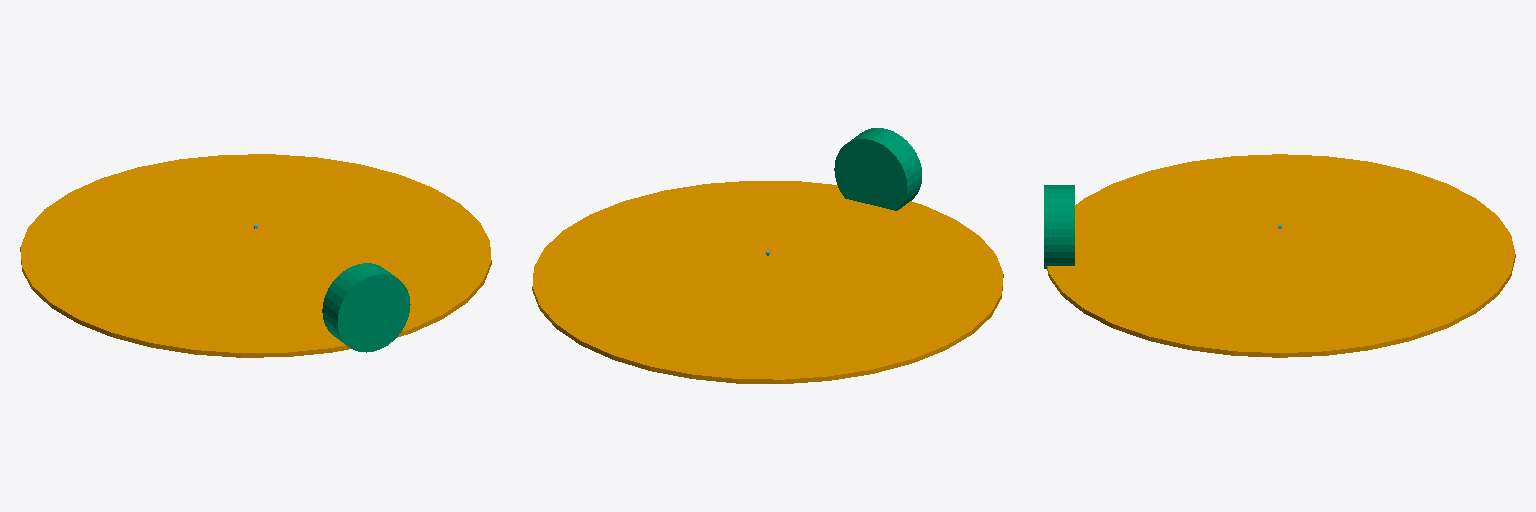
The robot description file, URDF, robot "pibot":
<?xml version="1.0" encoding="utf-8"?>
<!-- =================================================================================== -->
<!-- |    This document was autogenerated by xacro from [local-path]/catkin_ws/src/simulation/pibot_description/models/iti0201_robot/urdf/generate_pibot.urdf.xacro | -->
<!-- |    EDITING THIS FILE BY HAND IS NOT RECOMMENDED                                 | -->
<!-- =================================================================================== -->
<robot name="pibot" xmlns:xacro="http://www.ros.org/wiki/xacro">
  <link name="base_with_casters">
    <inertial>
      <mass value="0.48"/>
      <inertia ixx="0.00058809" ixy="0.0" ixz="0.0" iyy="0.00058809" iyz="0.0" izz="0.001176"/>
    </inertial>
    <visual name="base_visual">
      <origin rpy="0 0 0" xyz="0 0 0.003"/>
      <geometry>
        <cylinder length="0.0015" radius="0.07"/>
      </geometry>
    </visual>
    <collision name="base_collision">
      <origin rpy="0 0 0" xyz="0 0 0.003"/>
      <geometry>
        <cylinder length="0.0015" radius="0.07"/>
      </geometry>
    </collision>
    <!--visual name='front_caster_visual'>
        <origin xyz="0.035 0 0.0025" rpy="0 0 0"/>
        <geometry>
          <sphere radius="${caster_wheel_radius}"/>
        </geometry>
      </visual>

      <collision name='front_caster_collision'>
        <origin xyz="0.035 0 0.0025" rpy="0 0 0"/>
        <geometry>
          <sphere radius="${caster_wheel_radius}"/>
        </geometry>
      </collision>

      <visual name='rear_caster_visual'>
        <origin xyz="-0.035 0 0.0025" rpy="0 0 0"/>
        <geometry>
          <sphere radius="${caster_wheel_radius}"/>
        </geometry>
      </visual>

      <collision name='rear_caster_collision'>
        <origin xyz="-0.035 0 0.0025" rpy="0 0 0"/>
        <geometry>
          <sphere radius="${caster_wheel_radius}"/>
        </geometry>
      </collision-->
  </link>
  <!--gazebo reference="base_with_casters">
      <surface>
        <friction>
          <ode>
            <mu1 value="1.0"/>
            <mu2 value="1.0"/>
          </ode>
        </friction>
      </surface>
    </gazebo-->
  <link name="wheel_joint">
    <visual name="joint_visual">
      <geometry>
        <box size="0.001 0.001 0.001"/>
      </geometry>
    </visual>
  </link>
  <joint name="Wheel_joint_to_base" type="fixed">
    <origin rpy="0 0 0" xyz="0 0 0.0125"/>
    <child link="wheel_joint"/>
    <parent link="base_with_casters"/>
  </joint>
  <link name="right_wheel">
    <inertial>
      <mass value="0.005"/>
      <origin xyz="0 0 0"/>
      <inertia ixx="2.290625e-07" ixy="0.0" ixz="0.0" iyy="2.290625e-07" iyz="0.0" izz="3.90625e-07"/>
    </inertial>
    <visual name="visual">
      <origin rpy="0 0 0" xyz="0 0 0"/>
      <geometry>
        <cylinder length="0.009" radius="0.0125"/>
      </geometry>
    </visual>
    <collision name="collision">
      <origin rpy="0 0 0" xyz="0 0 0"/>
      <geometry>
        <cylinder length="0.009" radius="0.0125"/>
      </geometry>
    </collision>
  </link>
  <gazebo reference="right_wheel">
    <mu1 value="0.6"/>
    <mu2 value="0.6"/>
    <kp value="10000000.0"/>
    <kd value="1.0"/>
    <fdir1 value="1 0 0"/>
  </gazebo>
  <joint name="right_wheel_hinge" type="revolute">
    <origin rpy="0 1.5707 1.5707" xyz="0 -0.0655 0"/>
    <child link="right_wheel"/>
    <parent link="wheel_joint"/>
    <!--proovisin erinevaid väärtusi siia "limit" alla, midagi ei muutunud -->
    <limit effort="10.0" lower="0" upper="0" velocity="1.0"/>
    <axis rpy="0 0 0" xyz="0 1 0"/>
  </joint>
  <!--link name="left_wheel">
        <visual name="visual">
          <geometry>
            <cylinder radius="${wheel_radius}" length="${wheel_length}"/>
          </geometry>
        </visual>

        <collision name="collision">
          <geometry>
            <cylinder radius="${wheel_radius}" length="${wheel_length}"/>
          </geometry>
          <surface>
            <friction>
              <ode mu="0.6" mu2="0.6"/>
            </friction>
          </surface>
        </collision>

        <inertial>
          <mass value="${wheel_mass}"/>
          <inertia ixx="${1/12 * wheel_mass * ((3 * wheel_radius * wheel_radius) + (wheel_length * wheel_length))}" ixy="0.0" ixz="0.0" 
            iyy="${1/12 * wheel_mass * ((3 * wheel_radius * wheel_radius) + (wheel_length * wheel_length))}" iyz="0.0" 
            izz="${1/2 * wheel_mass * (wheel_radius * wheel_radius)}"/>
        </inertial>
      </link>

      <joint type="revolute" name="left_wheel_hinge">
      <origin xyz="0 0.0655 0.0152" rpy="0 1.5707 1.5707"/>
        <child link="left_wheel"/>
        <parent link="wheel_joint"/>
        <??????????????????????????????????????????????????? >
        <limit lower="-1.8326" upper="1.8326" effort="100.0" velocity="1.0" />
        <axis xyz="0 1 0"/>
      </joint>

      <gazebo>
        <plugin name="wheel_plugin" filename="libwheel_plugin.so"/>
      </gazebo-->
</robot>

--- Facts derived from the render (not from the file) ---
3 views of the same robot in one strip: view 1: azimuth 30°, elevation 25°; view 2: azimuth 150°, elevation 25°; view 3: azimuth 270°, elevation 25° (orthographic).
Robot: pibot — 3 links, 2 joints (1 revolute, 1 fixed); root link base_with_casters; default pose: all joints at 0.
Visible links, largest first — view 1: base_with_casters, right_wheel; view 2: base_with_casters, right_wheel; view 3: base_with_casters, right_wheel.
Boxes of the visible links, <box> form: base_with_casters: <box>20,154,491,357</box>; right_wheel: <box>322,263,410,352</box>; base_with_casters: <box>532,181,1003,383</box>; right_wheel: <box>834,128,921,210</box>; base_with_casters: <box>1047,154,1515,357</box>; right_wheel: <box>1044,185,1074,268</box>.
Bounding box of the posed robot: 0.14 × 0.14 × 0.025 m (x, y, z).
Geometry: primitives only (box / cylinder / sphere), no mesh files.
